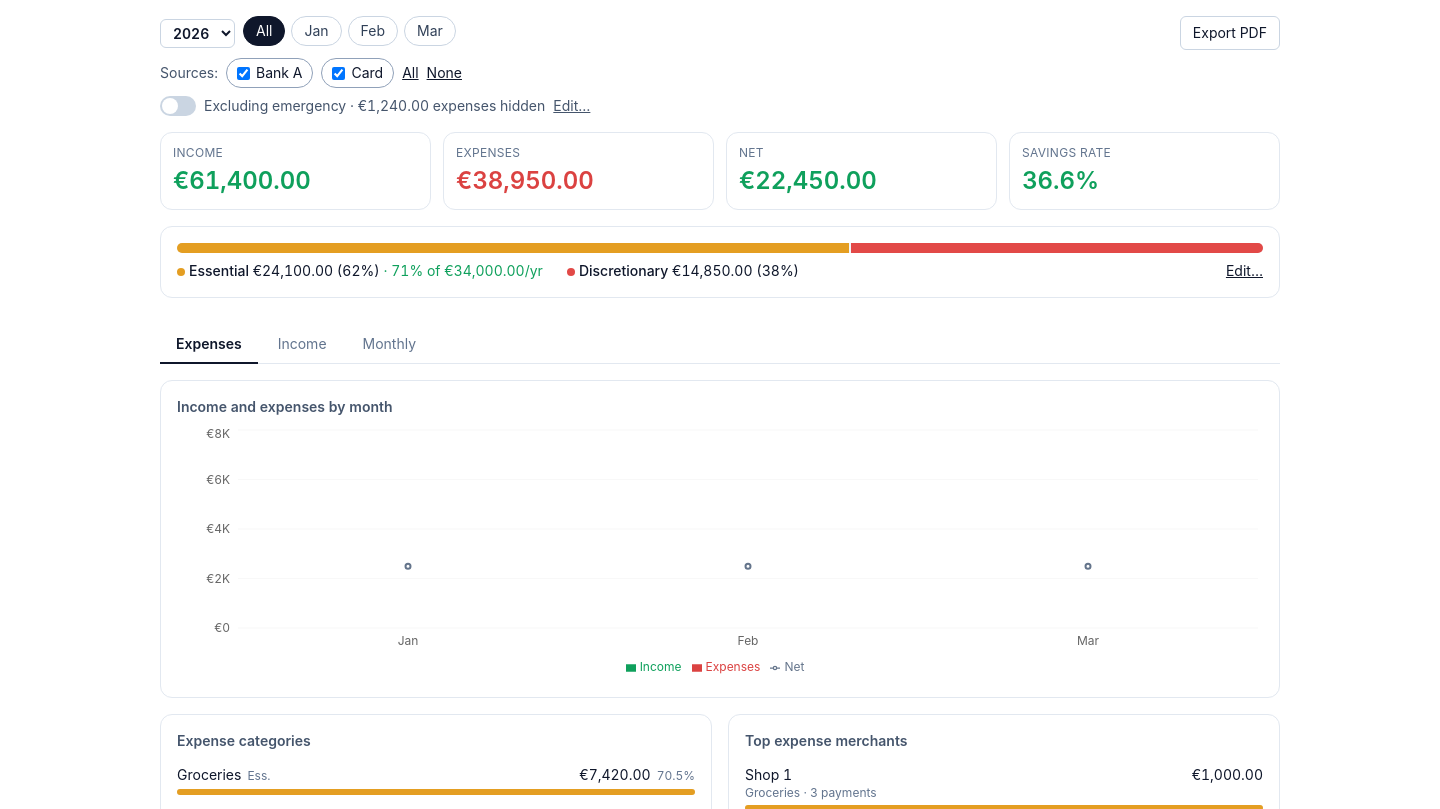
Test: budgets sheet › opens the budget editor from the essential/discretionary card, with a link to its page
Click the button with aria-label "Edit budgets".
click(1244, 271)  # box [1226,261,1263,281]
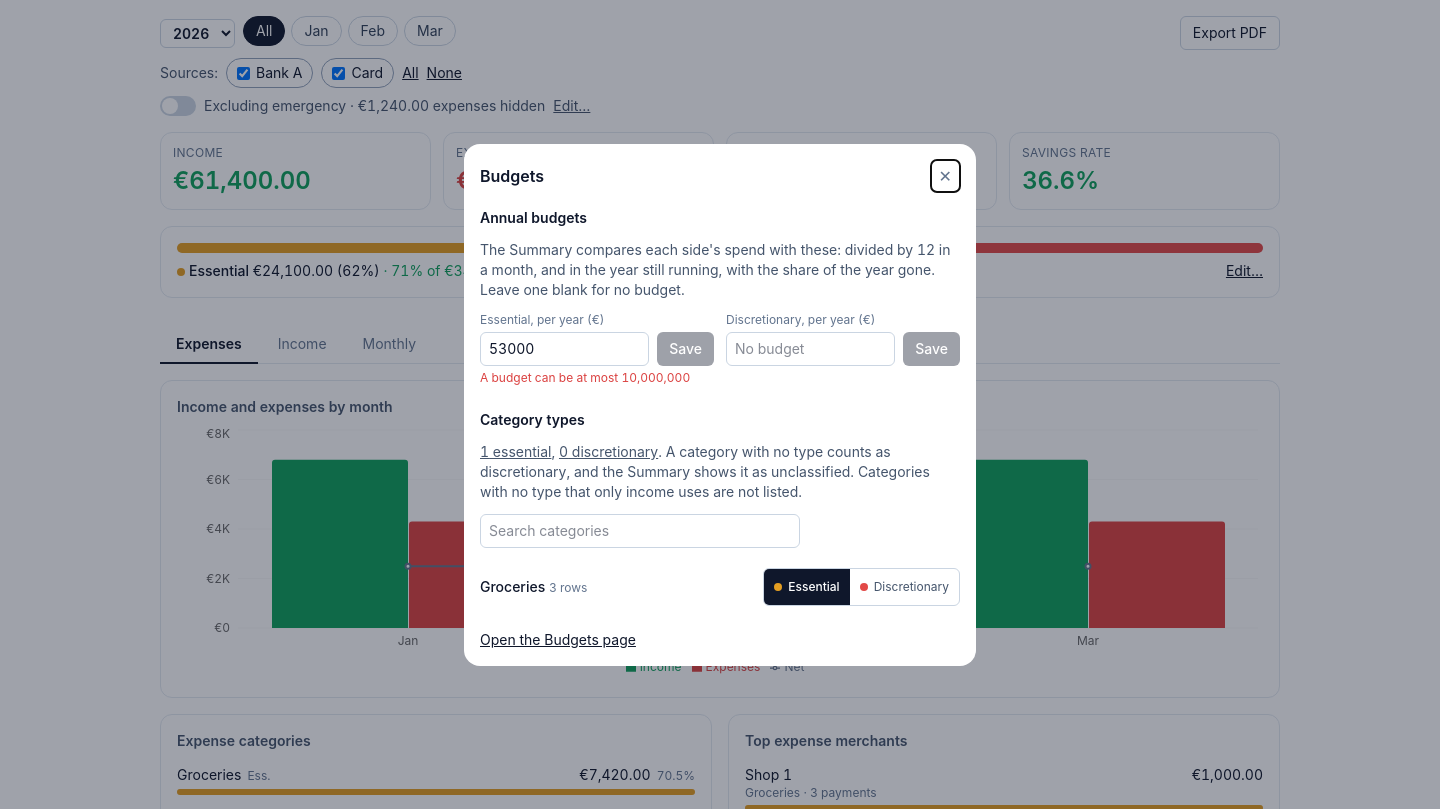
Now the button "Essential" is shown, box [764,569,850,605]
Now the field labelled "Essential, per year (€)" holds "53000", box [480,332,649,366]
